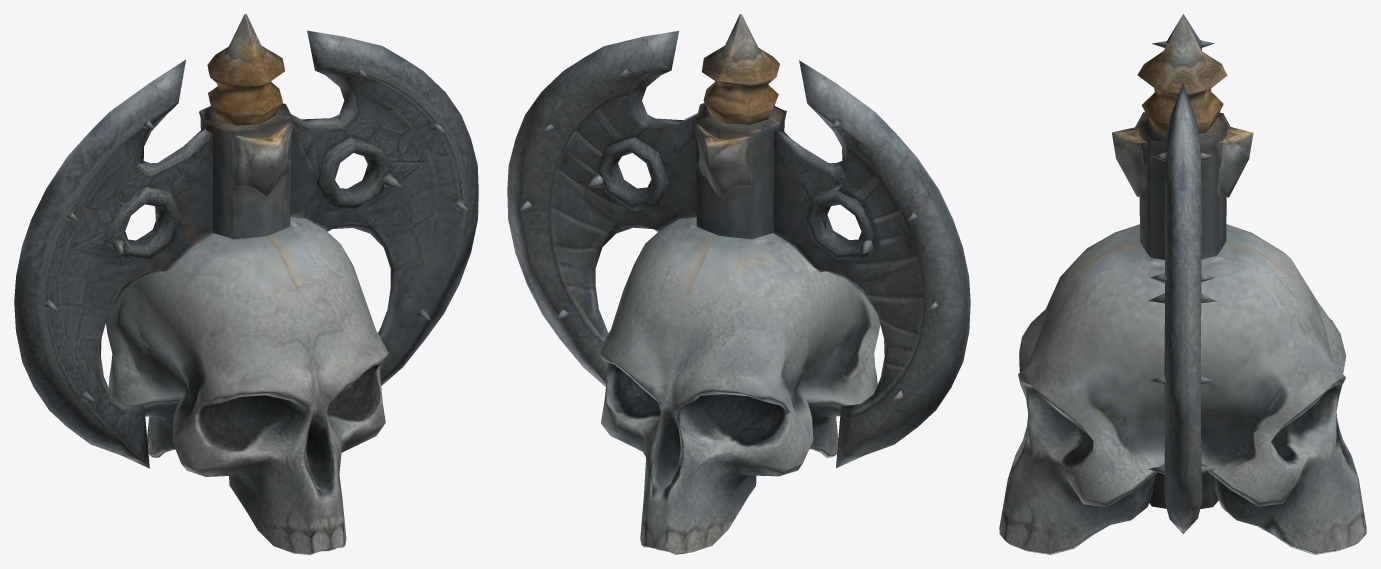
File: skull-axe-head-v2.glb
The picture shows the model from 3 angles, left to right: view 1: azimuth 30°, elevation 25°; view 2: azimuth 150°, elevation 25°; view 3: azimuth 270°, elevation 25°; orthographic projection. The views are drawn at different scales.
Visible parts, largest first — view 1: skull-axe-head-v2; view 2: skull-axe-head-v2; view 3: skull-axe-head-v2.
Boxes of the visible parts, x1,y1,x2,y2 form: skull-axe-head-v2: (14,14,478,554); skull-axe-head-v2: (507,14,970,554); skull-axe-head-v2: (999,14,1366,554).
Size of the model in its own units: 1 by 0.991 by 0.6313.
1 material, 1 textured.
